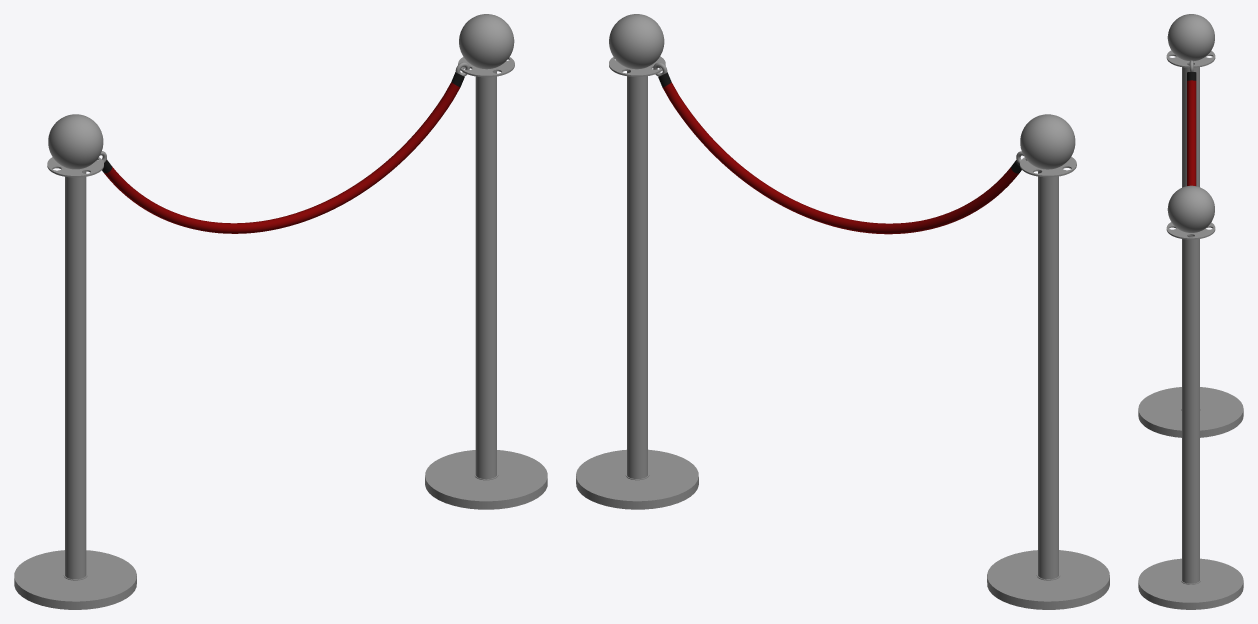
The model's file is Queue Manager.fbx.
3 views of the same model, side by side, from view 1: azimuth 30°, elevation 25°; view 2: azimuth 150°, elevation 25°; view 3: azimuth 270°, elevation 25° (orthographic). The views are drawn at different scales.
Parts seen in each view (by area): view 1: Cylinder001, Cylinder004, Cylinder005, Cylinder002, Arc001, Sphere001, Sphere002; view 2: Cylinder001, Cylinder004, Cylinder005, Cylinder002, Arc001, Sphere001, Sphere002; view 3: Cylinder004, Cylinder005, Cylinder002, Sphere002, Sphere001, Arc001, Cylinder001, Circle008, Circle005.
Part boxes in pixels (x1,y1,x2,y2): Cylinder001: (65,171,86,579); Cylinder004: (475,71,496,479); Cylinder005: (425,450,547,509); Cylinder002: (14,550,136,609); Arc001: (102,72,464,233); Sphere001: (48,114,103,169); Sphere002: (459,14,514,69); Cylinder001: (1038,171,1058,579); Cylinder004: (627,71,647,478); Cylinder005: (576,449,698,509); Cylinder002: (987,550,1109,609); Arc001: (658,72,1021,234); Sphere001: (1020,114,1075,169); Sphere002: (609,14,664,69); Cylinder004: (1182,235,1199,583); Cylinder005: (1138,558,1243,609); Cylinder002: (1138,387,1243,437); Sphere002: (1167,185,1214,232); Sphere001: (1167,14,1214,61); Arc001: (1187,72,1196,185); Cylinder001: (1182,64,1199,187); Circle008: (1166,222,1215,239); Circle005: (1166,50,1215,67).
Bounding box in the file's own units: 97.89 × 84.43 × 20.14.
